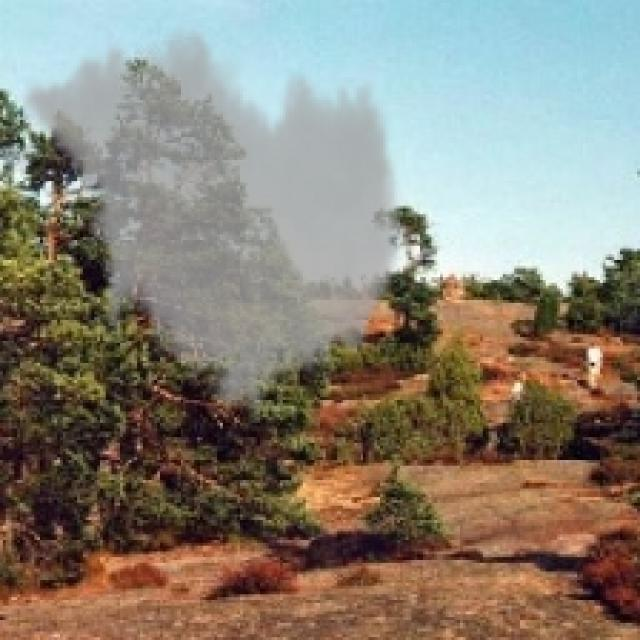smoke: (20, 14, 409, 423)
